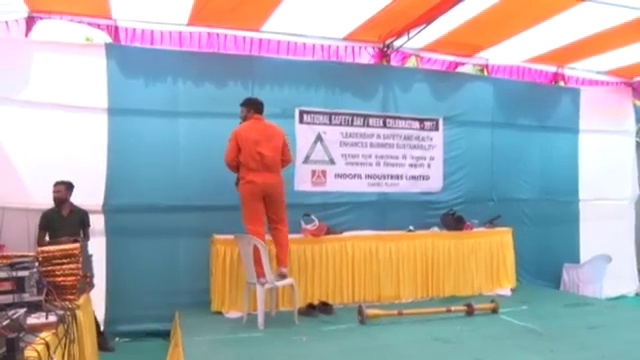helmet_off: (236, 96, 264, 125), (49, 180, 75, 208)
person: (227, 98, 295, 275), (36, 180, 94, 246)
